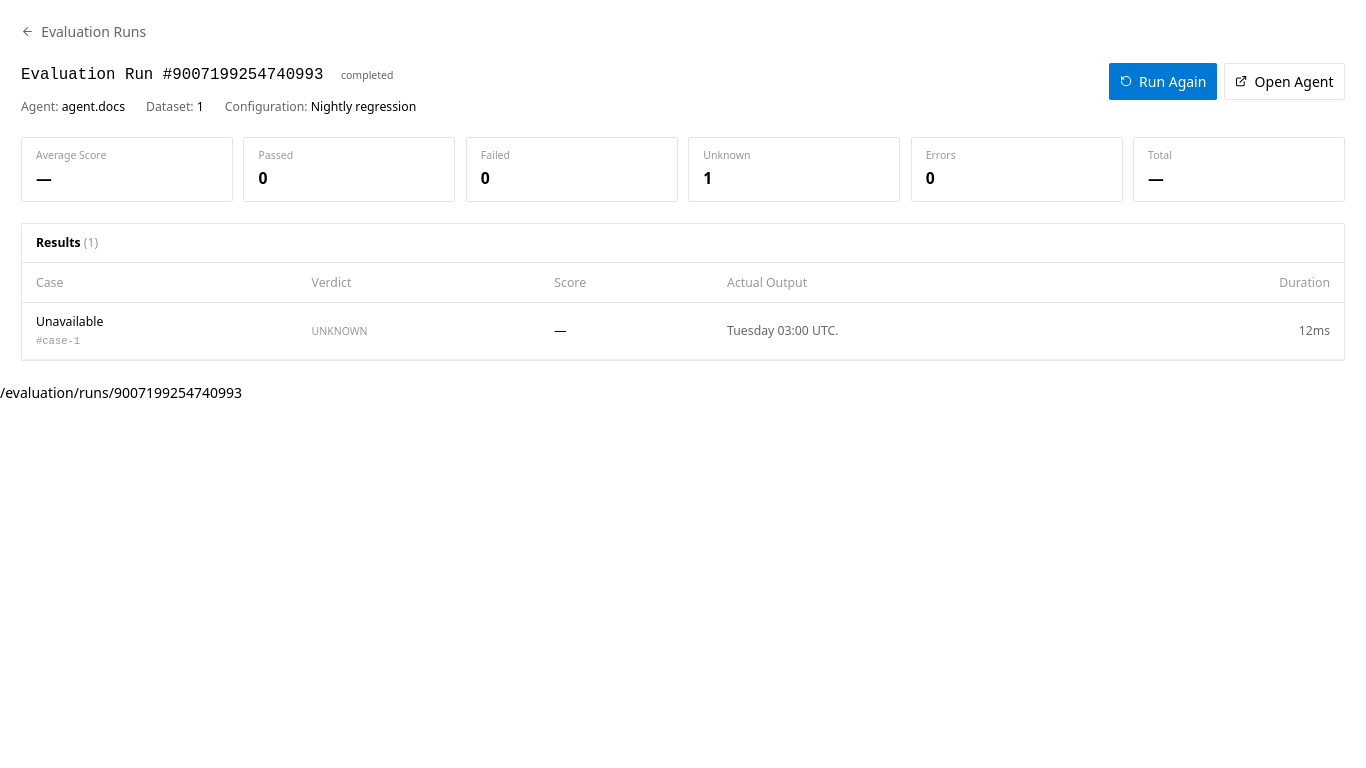
it: Evaluation retrieval evidence surface › shows the bounded retrieval summary when evidence was used
Click the text "Tuesday 03:00 UTC." at (783, 330), box left=713, top=302, right=1116, bottom=359
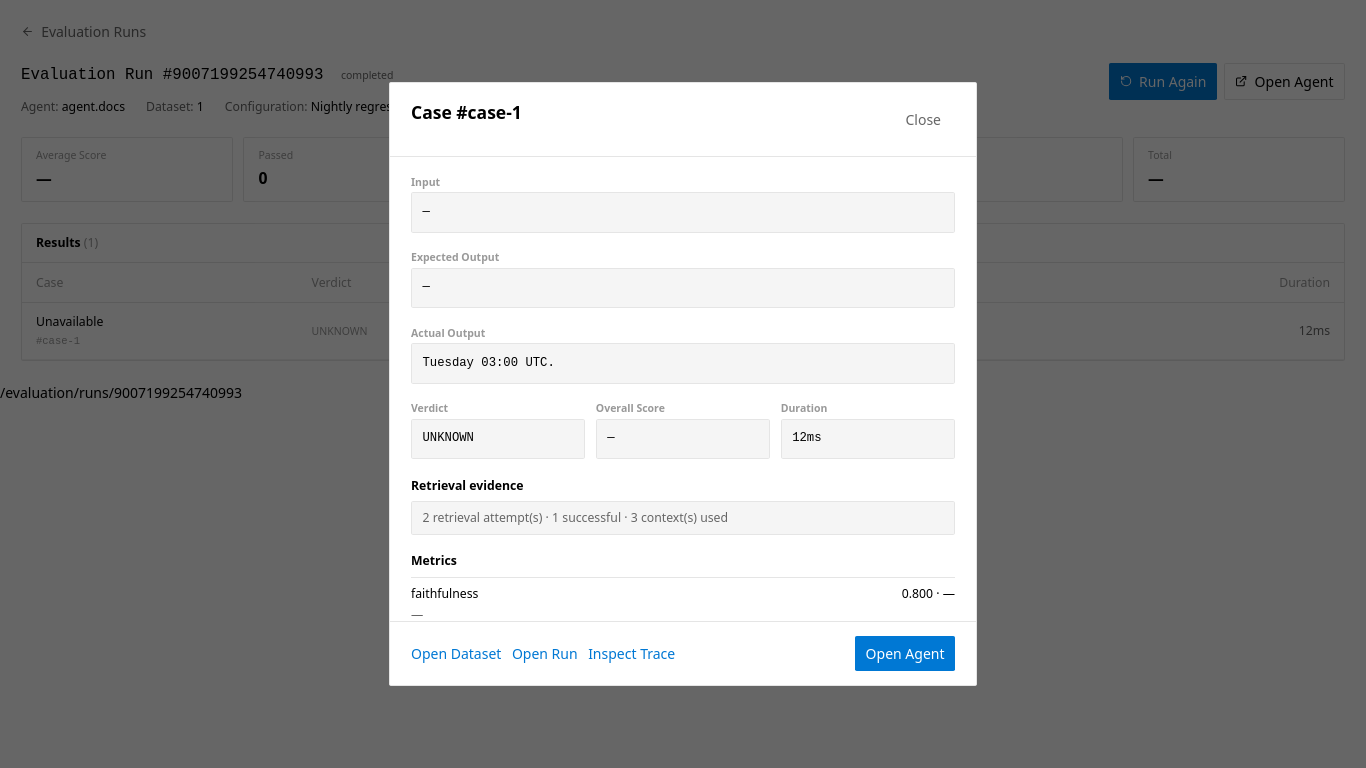
Check: the heading "Retrieval evidence" is shown, box left=411, top=477, right=524, bottom=494
Check: the text "2 retrieval attempt(s) · 1 successful · 3 context(s) used" is shown, box left=411, top=501, right=955, bottom=535
